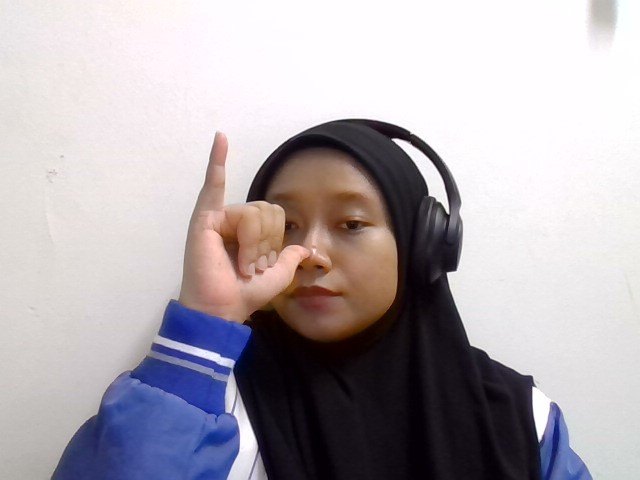BadakSumbu: (181, 130, 342, 310)
